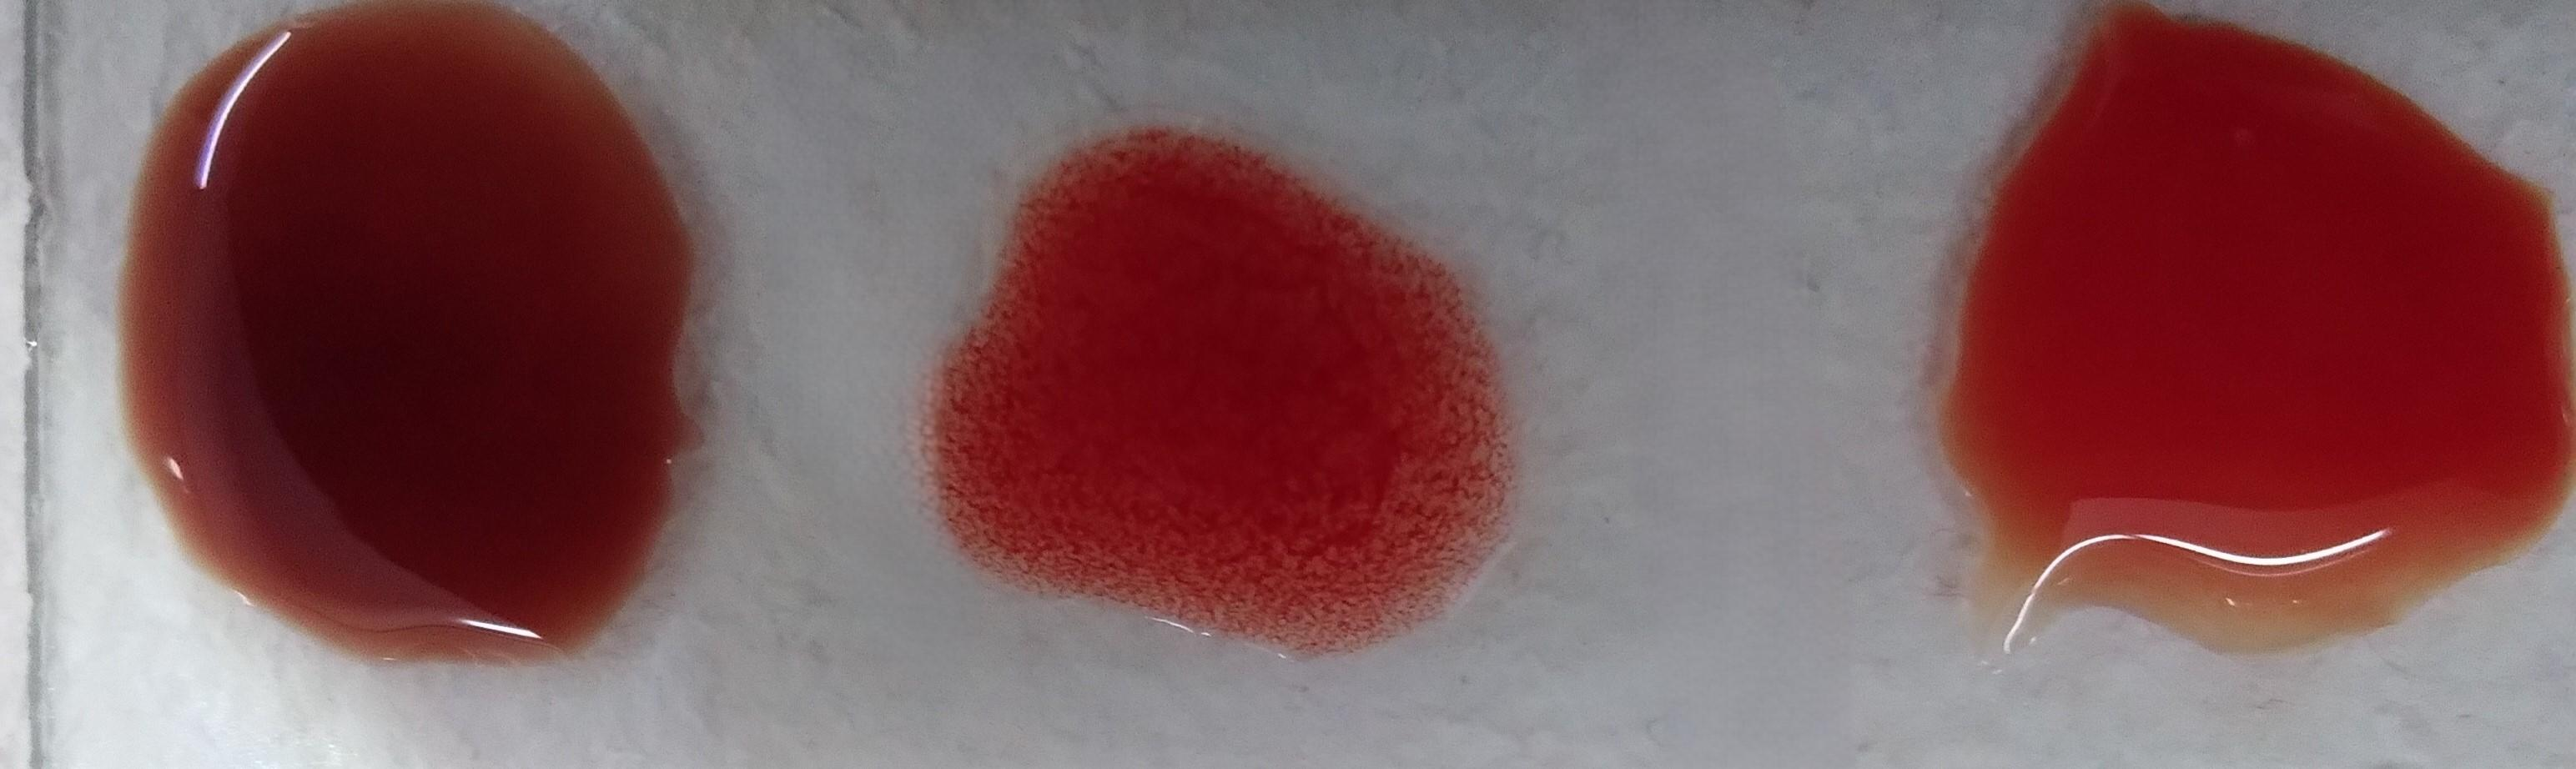D: (940, 148, 1474, 664)
